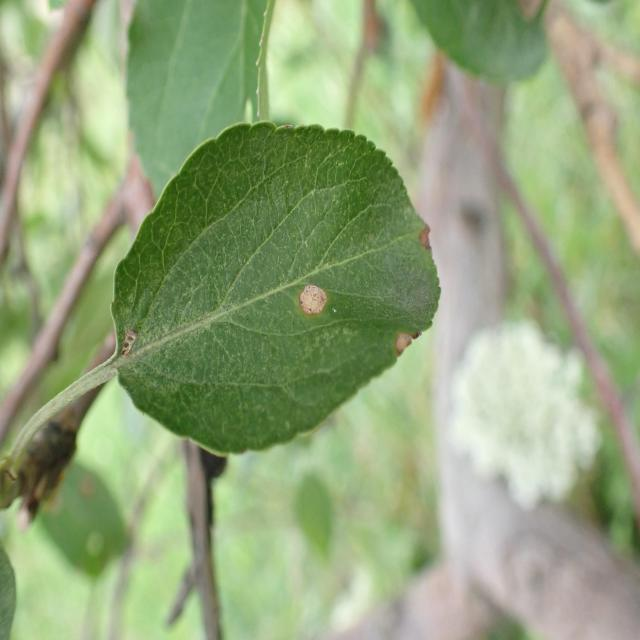Black Rot: (293, 280, 351, 336), (389, 323, 430, 373), (407, 218, 442, 266)
